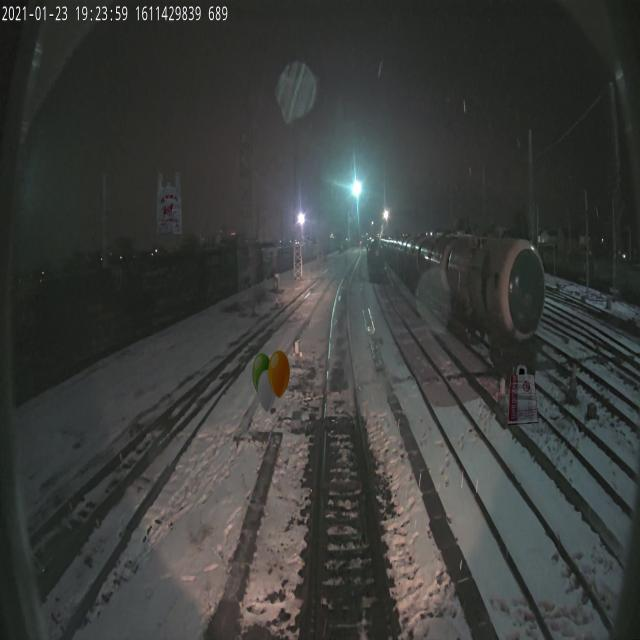balloon: (252, 342, 292, 406), (507, 362, 538, 426), (157, 172, 182, 236)
